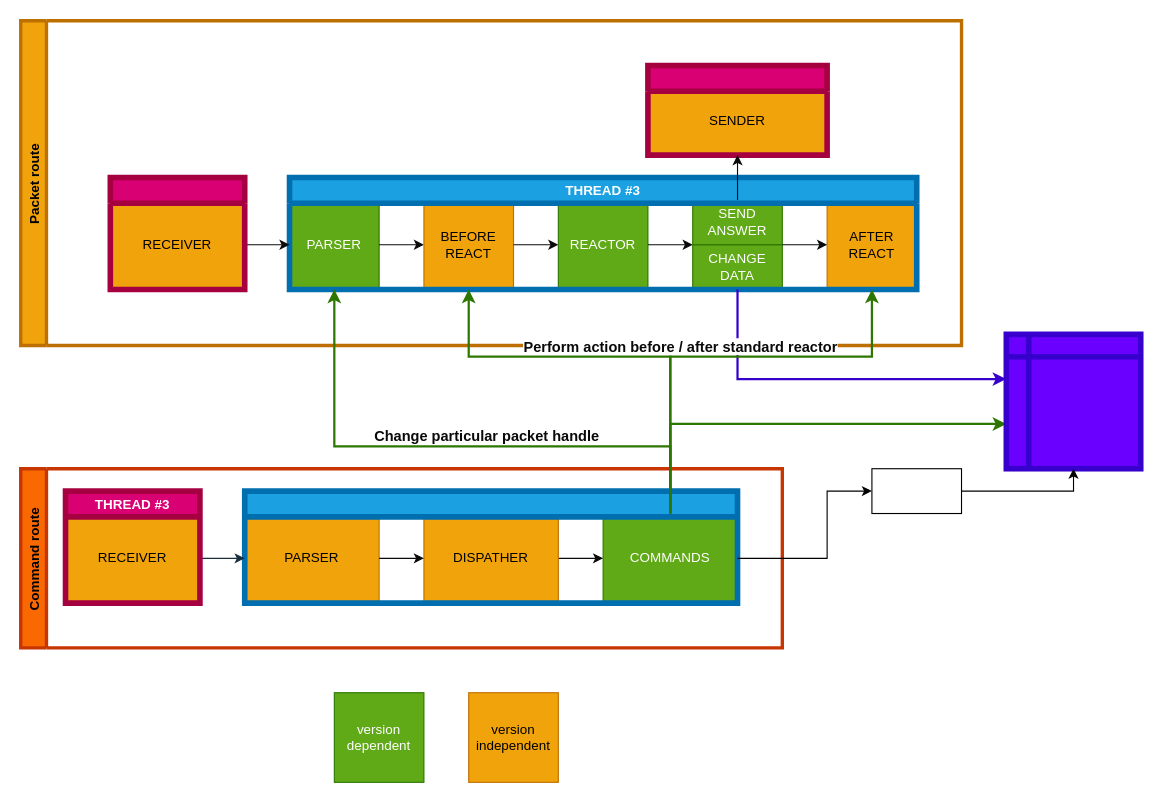
This 1163x802 diagram has some shape labels left out. Each missing label, with the centre of its shape:
"GAME DATA" goes at point 1073,401.
"MOVER" goes at point 916,491.
"THREAD #1" goes at point 177,233.
"THREAD #2" goes at point 737,109.
"THREAD #4" goes at point 490,546.
